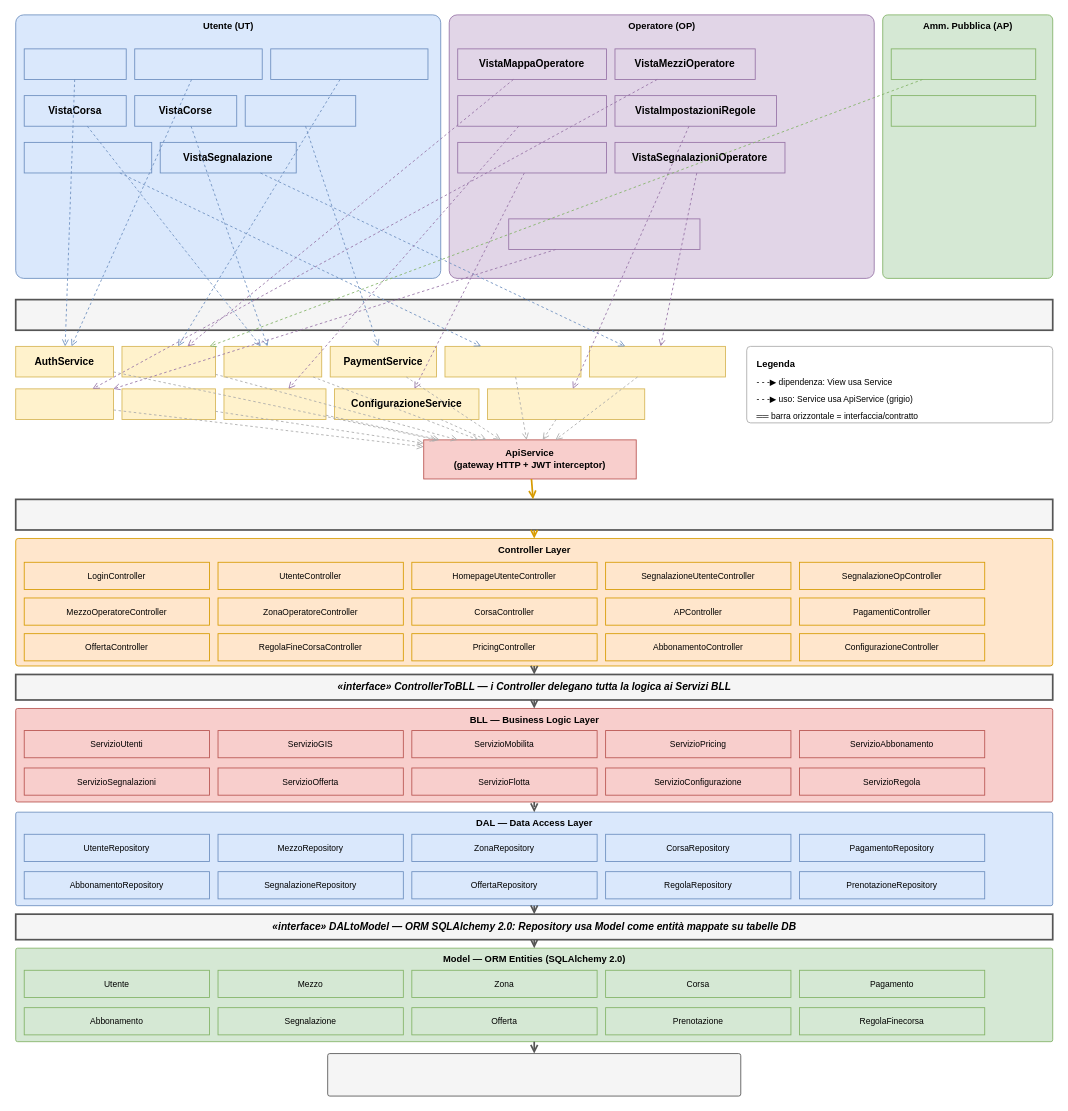
Image size: 1068x1111. Some labels were removed from this diagram. The shapes that lost their labels are listed below. From the top down, each one's centre as x and y in pixels, then its label:
point 74,63: VistaLogin
point 198,63: VistaProfiloUtente
point 349,63: VistaHomePageUtente
point 963,63: VistaDashboardAP
point 300,110: VistaPagamenti
point 531,110: VistaTariffePromozioni
point 963,110: VistaReportAP
point 87,157: VistaAbbonamenti
point 531,157: VistaParametriSistema
point 604,233: VistaGestioneUtentiOperatore
point 533,314: «interface» ApiToView — contratto che i Service frontend espongono alle View
point 168,361: MapService
point 272,361: CorsaService
point 512,361: AbbonamentoService
point 657,361: SegnalazioneService
point 64,403: FlottaService
point 168,403: ZonaService
point 274,403: OffertaService
point 566,403: RegolaFinecorsaService
point 533,514: «interface» ClientToServer — contratto HTTP: route REST esposte dal Server
point 534,1074: DBMS — Supabase (PostgreSQL + PostGIS)
